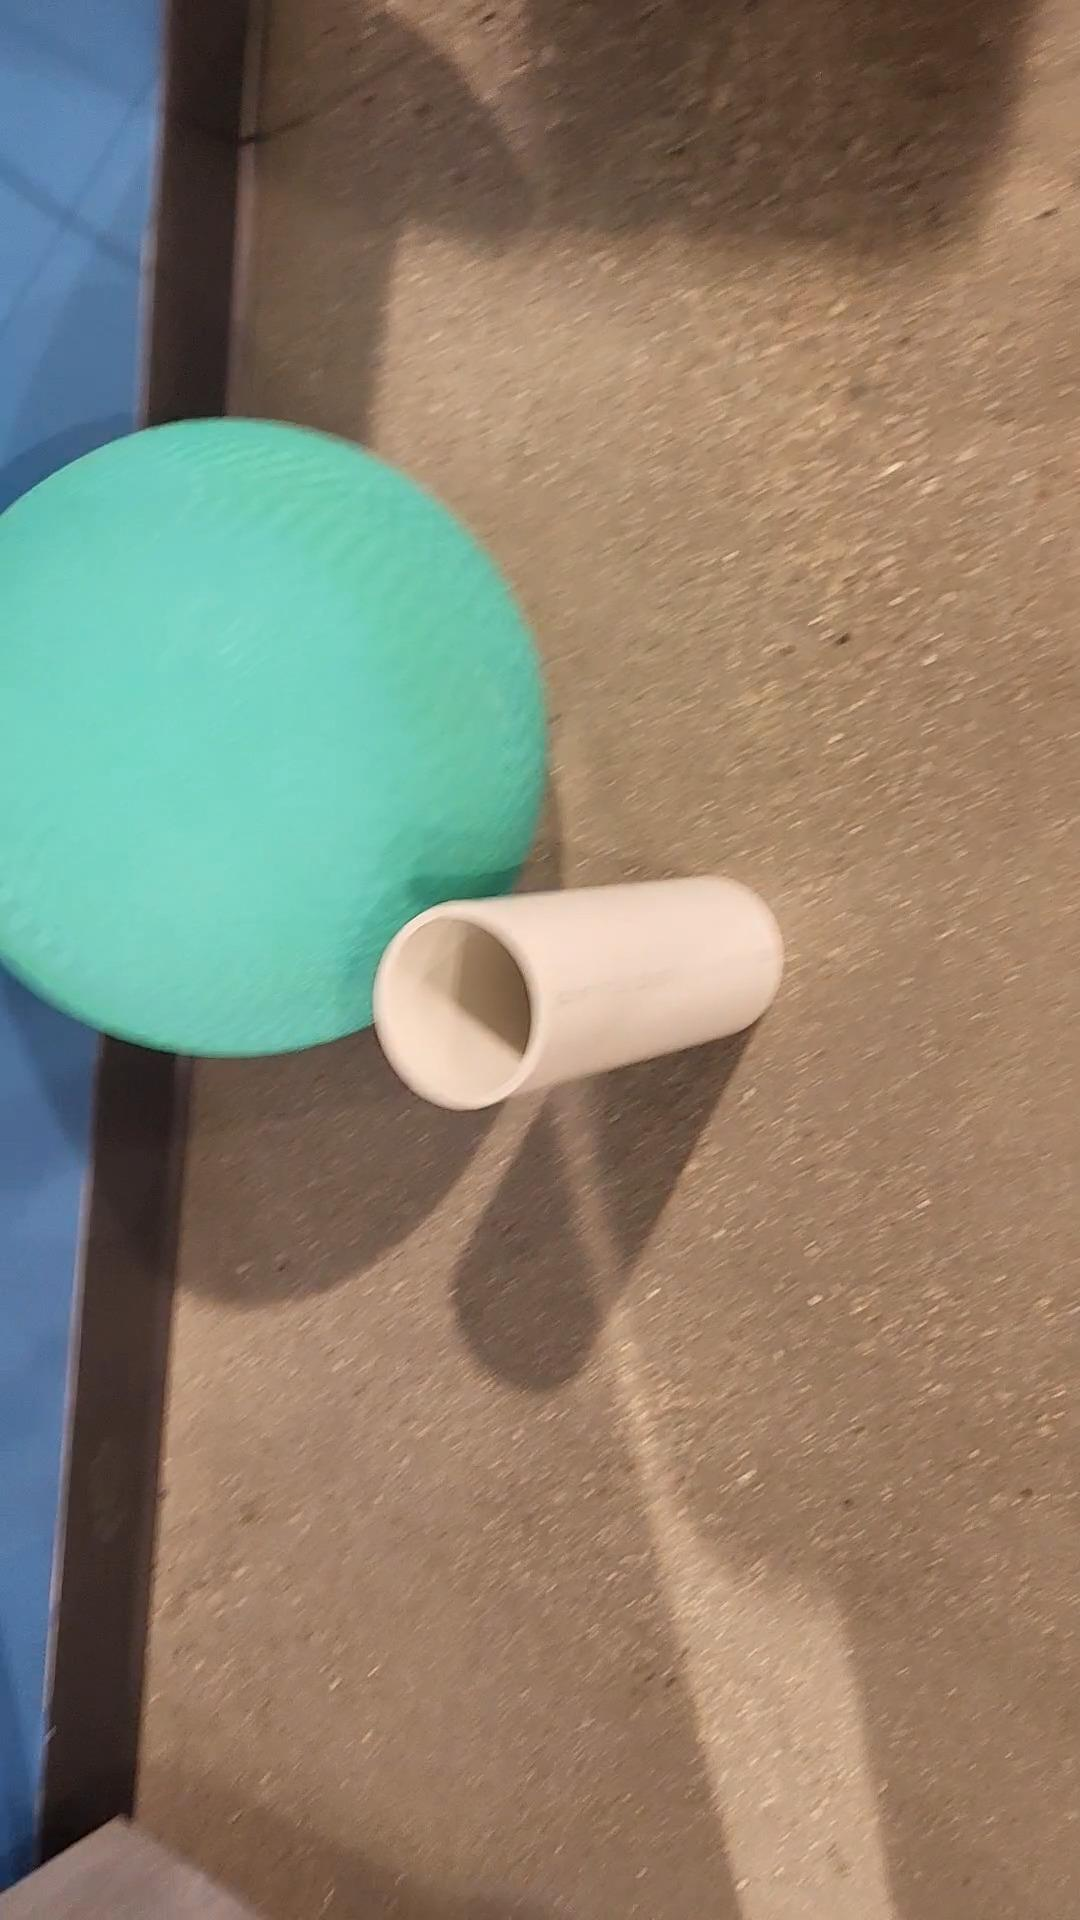algae: (0, 415, 550, 1058)
coral: (371, 873, 785, 1110)
